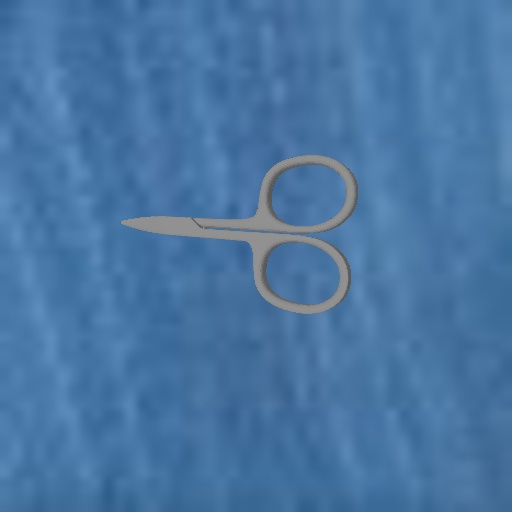tijera: (112, 144, 369, 324)
